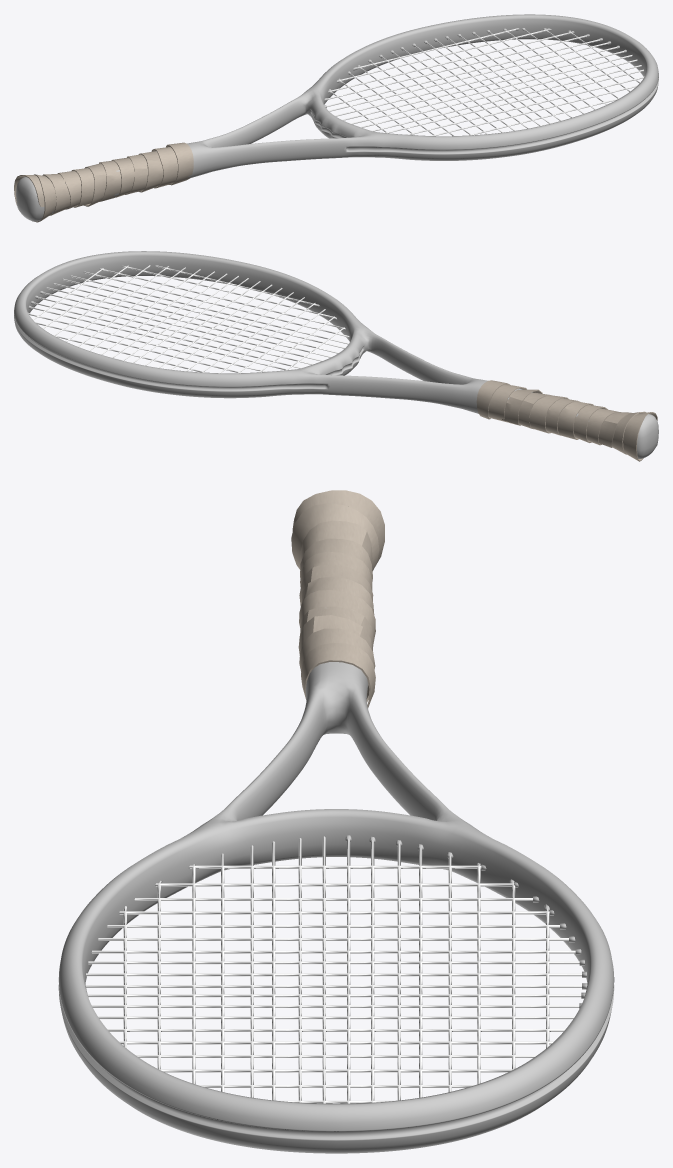
File: Racket_Wilson_Blade.dae
3 views of the same model, one above another, from view 1: azimuth 30°, elevation 25°; view 2: azimuth 150°, elevation 25°; view 3: azimuth 270°, elevation 25° (orthographic). The views are drawn at different scales.
Visible parts, largest first — view 1: Raketka, Setka, Rychka, Cylinder; view 2: Raketka, Setka, Rychka; view 3: Raketka, Setka, Rychka.
Part boxes in pixels (box(x1,y1,x2,y2)): Raketka: box(16, 14, 658, 221); Setka: box(327, 28, 644, 136); Rychka: box(14, 142, 193, 222); Cylinder: box(324, 28, 626, 108); Raketka: box(14, 251, 658, 458); Setka: box(29, 265, 349, 373); Rychka: box(476, 380, 657, 461); Raketka: box(58, 592, 614, 1153); Setka: box(85, 836, 581, 1103); Rychka: box(291, 490, 384, 707).
Bounding box in the file's own units: 9.72 × 3.78 × 0.6708.
